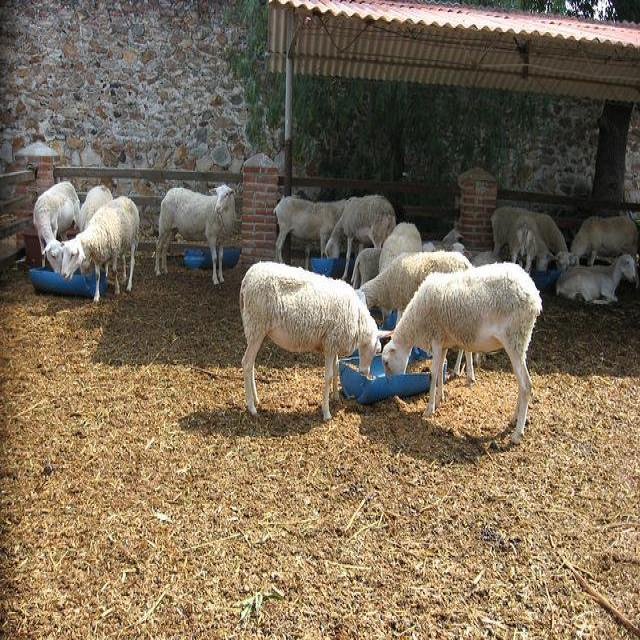Sheep: (343, 198, 639, 386), (388, 270, 539, 447), (242, 264, 390, 420), (61, 197, 141, 307), (155, 184, 237, 283), (361, 252, 474, 311), (323, 196, 396, 281), (273, 196, 348, 276), (490, 207, 570, 272), (33, 181, 80, 275), (556, 253, 636, 306), (376, 221, 423, 279), (73, 183, 114, 232)
